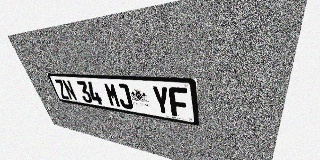3: (76, 81, 93, 103)
4: (85, 81, 103, 105)
F: (168, 87, 189, 118)
J: (115, 83, 134, 110)
M: (103, 82, 121, 108)
N: (62, 80, 78, 101)
Y: (151, 85, 171, 116)
Z: (54, 79, 70, 100)
